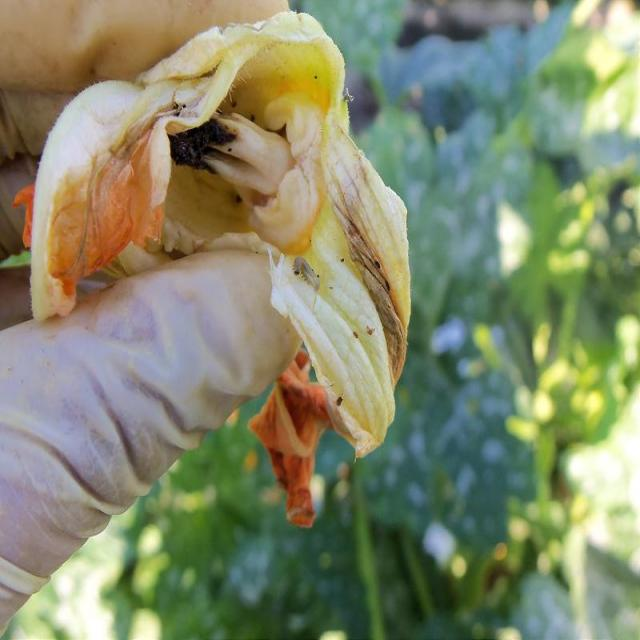BeetArmyWorm-Larva-: (283, 251, 326, 296)
